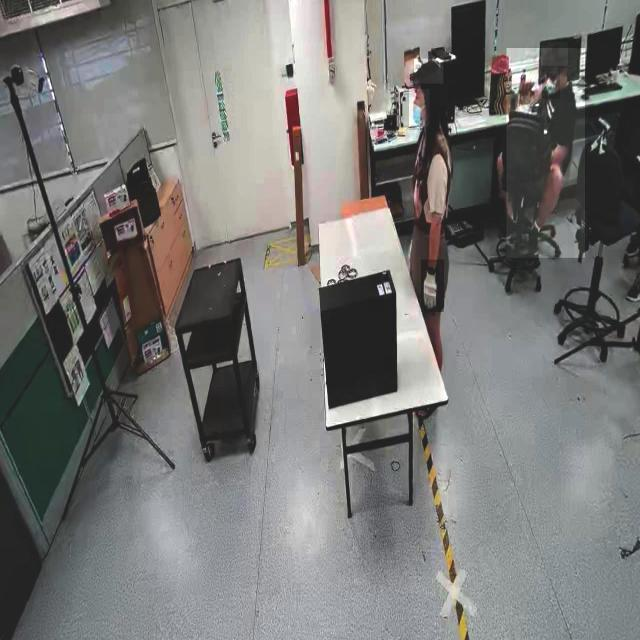face_mask: (409, 89, 429, 126), (542, 70, 560, 100)
hand_glove: (420, 259, 444, 313)
head_nohelmet: (414, 59, 444, 85), (540, 42, 568, 66)
person: (401, 55, 463, 388), (506, 48, 585, 259)
